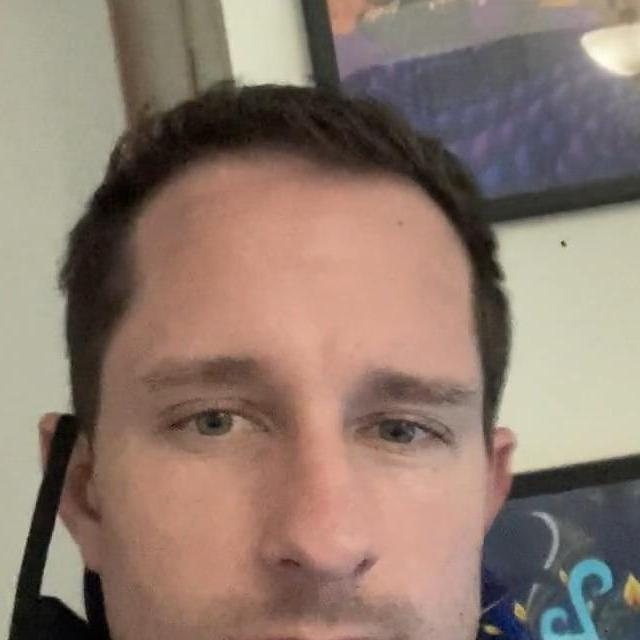NO-Hardhat: (42, 92, 500, 278)
NO-Mask: (51, 491, 512, 640)
Person: (0, 83, 640, 640)
